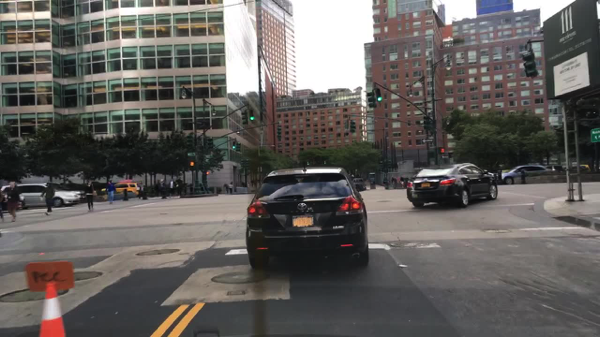car: (245, 166, 369, 271), (405, 163, 496, 208), (0, 183, 87, 208), (499, 163, 550, 188), (100, 182, 141, 196), (567, 162, 590, 176), (59, 183, 89, 191), (352, 177, 365, 193), (482, 169, 499, 181), (544, 165, 565, 174)
person: (4, 181, 25, 223), (38, 182, 56, 216), (82, 178, 97, 211), (104, 178, 116, 206), (0, 182, 5, 239), (174, 175, 184, 196), (154, 179, 162, 196), (168, 176, 175, 195), (390, 175, 397, 188), (382, 176, 388, 189), (398, 176, 404, 188), (404, 176, 410, 188), (222, 183, 229, 192), (228, 181, 234, 191)
traffic light: (520, 46, 537, 78), (365, 91, 376, 109), (373, 87, 382, 103), (422, 115, 431, 130), (349, 120, 357, 135), (185, 134, 192, 147), (240, 110, 247, 123), (249, 108, 255, 122), (275, 123, 281, 137), (207, 138, 213, 150), (343, 118, 349, 129), (436, 147, 445, 154), (230, 141, 236, 151), (236, 141, 241, 152), (189, 160, 195, 167), (204, 169, 210, 176)
traffic sign: (590, 129, 599, 143), (420, 138, 433, 143), (187, 151, 196, 157)
